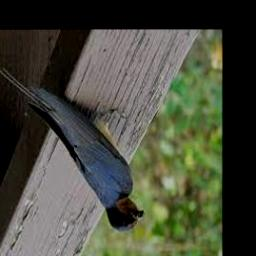Swallow: (0, 67, 144, 234)
